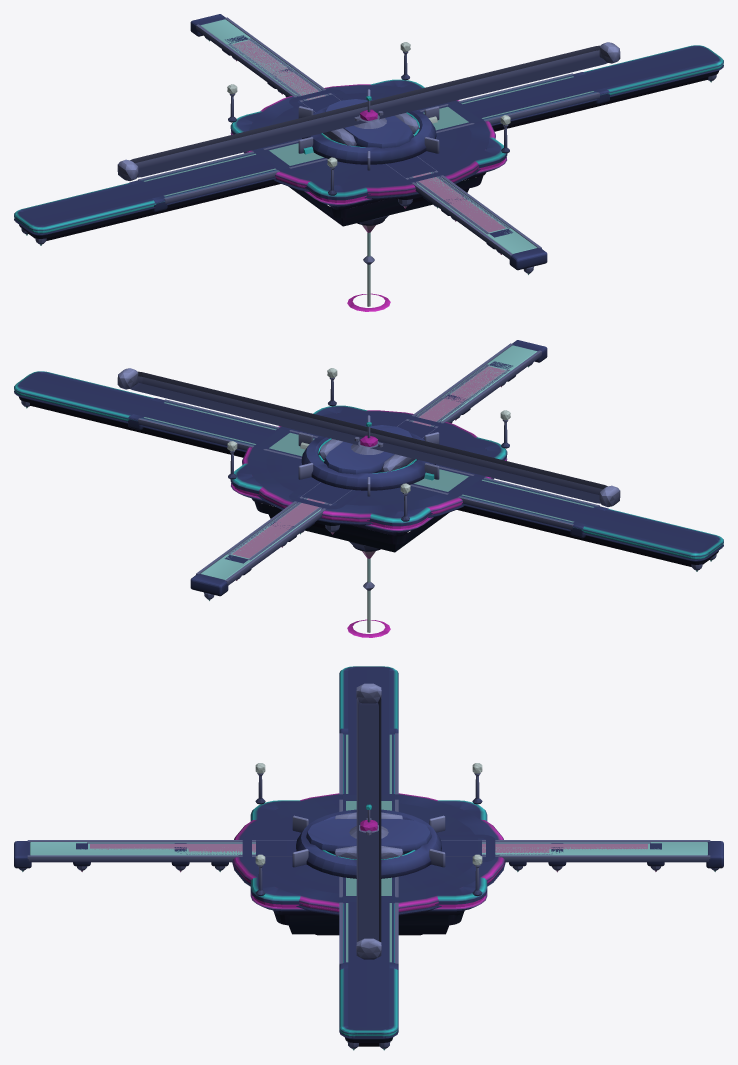
The model's file is core-2-0rUZKS2w.glb.
3 renders of one model, top to bottom at view 1: azimuth 30°, elevation 25°; view 2: azimuth 150°, elevation 25°; view 3: azimuth 270°, elevation 25°, orthographic. The views are drawn at different scales.
Visible parts, largest first — view 1: mount_15.3#0, block_44x2x2.5_grate#0, block_44x2x3_grate#1, beam_2x1.5x36#0, pad_12x2x12#1, disc_14x1.5#0, beam_1.5x1x30#0, beam_29x1.5x3#0, geyserVent_5.4#0, disc_12x1.5#1, spout_2x5#0, block_4x2x13.5#1 (+4 smaller); view 2: mount_15.3#0, block_44x2x2.5_grate#0, block_44x2x3_grate#1, beam_2x1.5x36#0, pad_12x2x12#1, disc_14x1.5#0, beam_1.5x1x30#0, beam_29x1.5x3#0, geyserVent_5.4#0, disc_12x1.5#1, spout_2x5#0, block_4x2x13.5#1 (+4 smaller); view 3: beam_2x1.5x36#0, block_44x2x2.5_grate#0, mount_15.3#0, disc_14x1.5#0, pad_12x2x12#1, disc_12x1.5#1, geyserVent_5.4#0, block_44x2x3_grate#1, spout_2x5#0, beam_1.5x1x30#0, block_4x2x13.5#1, beam_29x1.5x3#0 (+2 smaller).
Boxes of the visible parts, x1,y1,x2,y2 form: mount_15.3#0: [117, 42, 620, 180]; block_44x2x2.5_grate#0: [15, 47, 721, 231]; block_44x2x3_grate#1: [14, 45, 723, 245]; beam_2x1.5x36#0: [190, 14, 547, 274]; pad_12x2x12#1: [227, 42, 510, 226]; disc_14x1.5#0: [244, 84, 495, 232]; beam_1.5x1x30#0: [222, 35, 512, 254]; beam_29x1.5x3#0: [129, 72, 609, 212]; geyserVent_5.4#0: [298, 89, 439, 170]; disc_12x1.5#1: [269, 93, 471, 179]; spout_2x5#0: [323, 96, 419, 148]; block_4x2x13.5#1: [289, 89, 448, 208]; mount_15.3#0: [117, 368, 620, 506]; block_44x2x2.5_grate#0: [16, 373, 722, 557]; block_44x2x3_grate#1: [14, 371, 723, 571]; beam_2x1.5x36#0: [190, 340, 547, 600]; pad_12x2x12#1: [227, 368, 510, 552]; disc_14x1.5#0: [242, 410, 493, 558]; beam_1.5x1x30#0: [224, 361, 515, 580]; beam_29x1.5x3#0: [128, 398, 608, 538]; geyserVent_5.4#0: [298, 415, 439, 496]; disc_12x1.5#1: [266, 419, 468, 505]; spout_2x5#0: [318, 422, 414, 474]; block_4x2x13.5#1: [289, 415, 448, 534]; beam_2x1.5x36#0: [14, 840, 723, 871]; block_44x2x2.5_grate#0: [348, 666, 389, 1037]; mount_15.3#0: [356, 683, 381, 959]; disc_14x1.5#0: [232, 793, 505, 915]; pad_12x2x12#1: [250, 763, 487, 935]; disc_12x1.5#1: [259, 802, 478, 894]; geyserVent_5.4#0: [292, 809, 445, 878]; block_44x2x3_grate#1: [339, 666, 398, 1050]; spout_2x5#0: [306, 804, 431, 859]; beam_1.5x1x30#0: [73, 842, 664, 871]; block_4x2x13.5#1: [242, 834, 495, 862]; beam_29x1.5x3#0: [339, 728, 398, 969].
Bounding box in the file's own units: 44 × 12.75 × 36.
